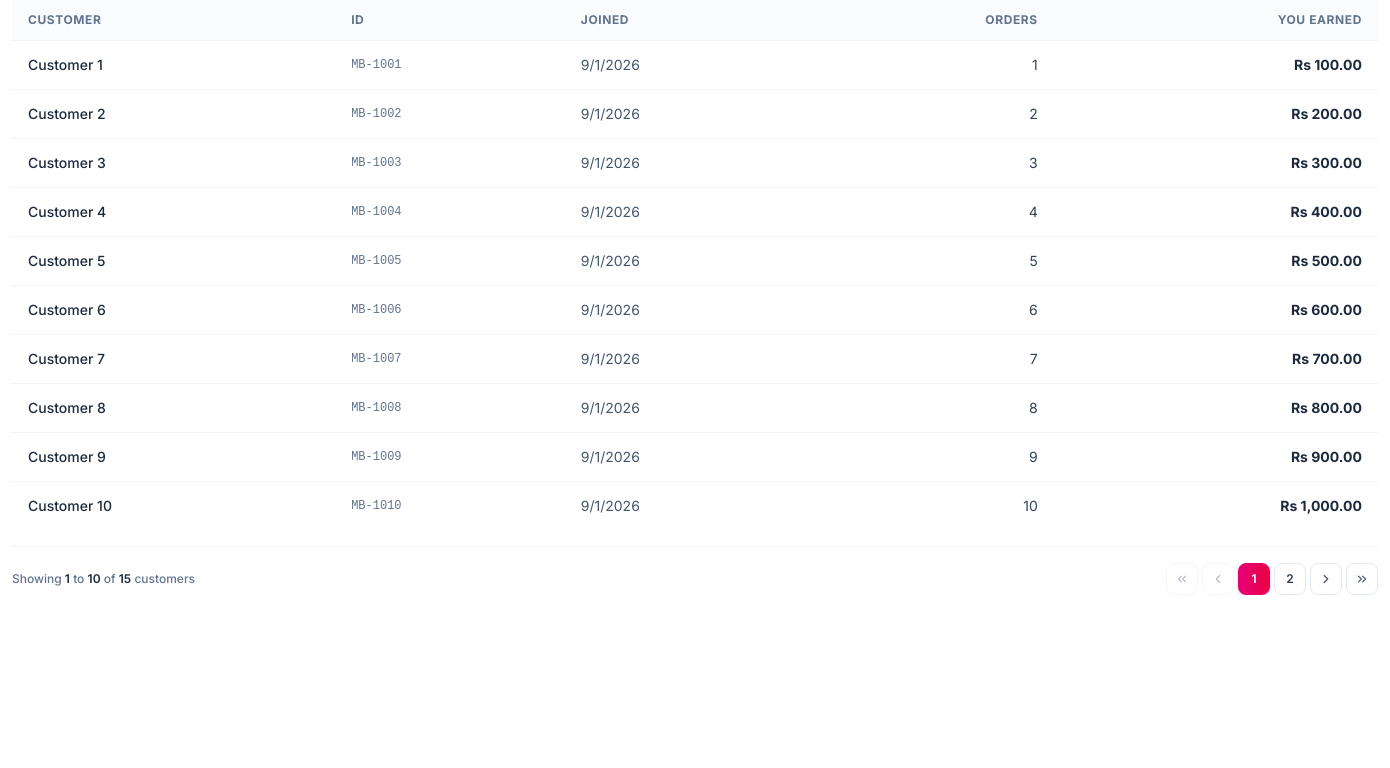
Test case: CustomerTable Pagination › limits display to 10 rows per page and navigates with pagination
This screenshot has width=1390, height=768.
Expected: the text "Customer 1" is shown, [12,40,335,90]
Expected: the text "Customer 10" is shown, [12,482,335,530]
# Navigate to page 2
Click the button named "Page 2": (1290, 579) [1274,563,1306,595]
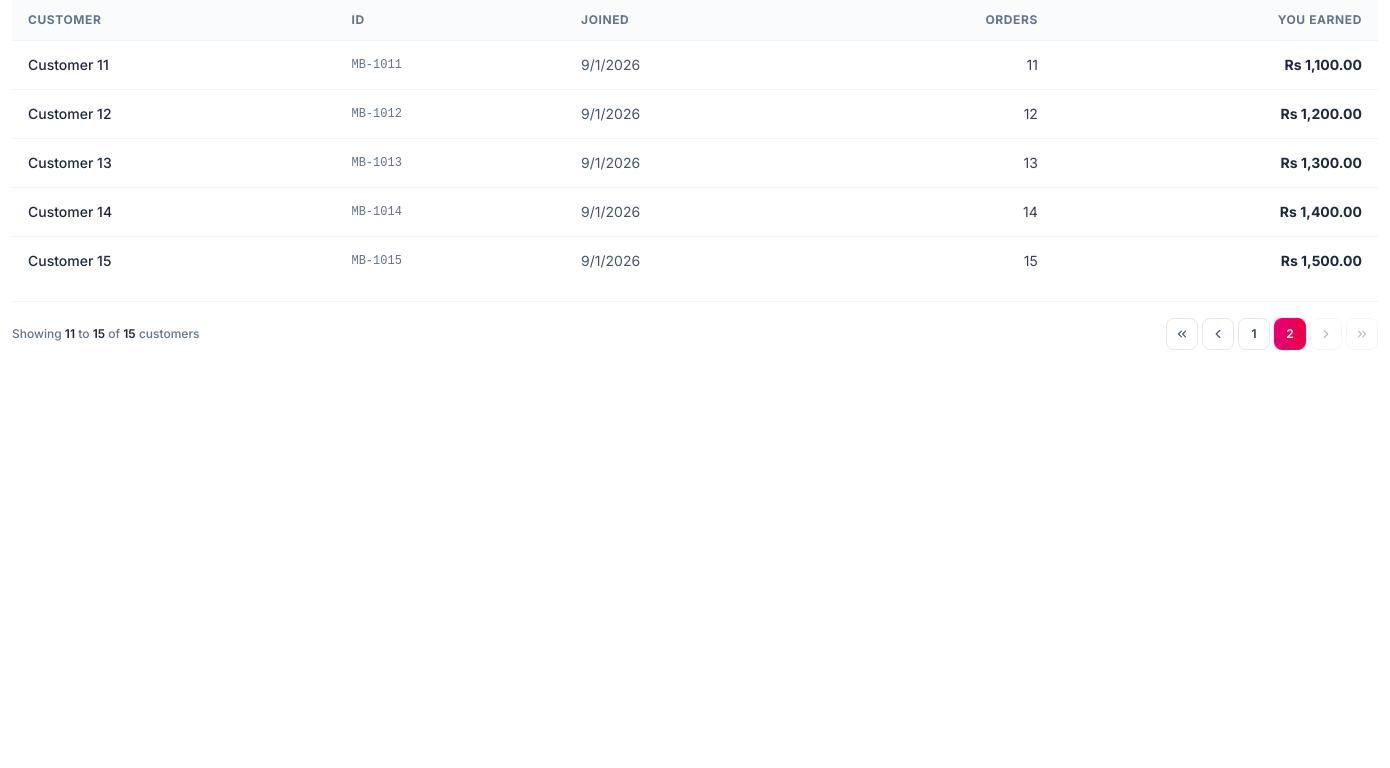
Expected: the text "Customer 11" is shown, [12,40,336,90]
Expected: the text "Customer 15" is shown, [12,236,336,285]
